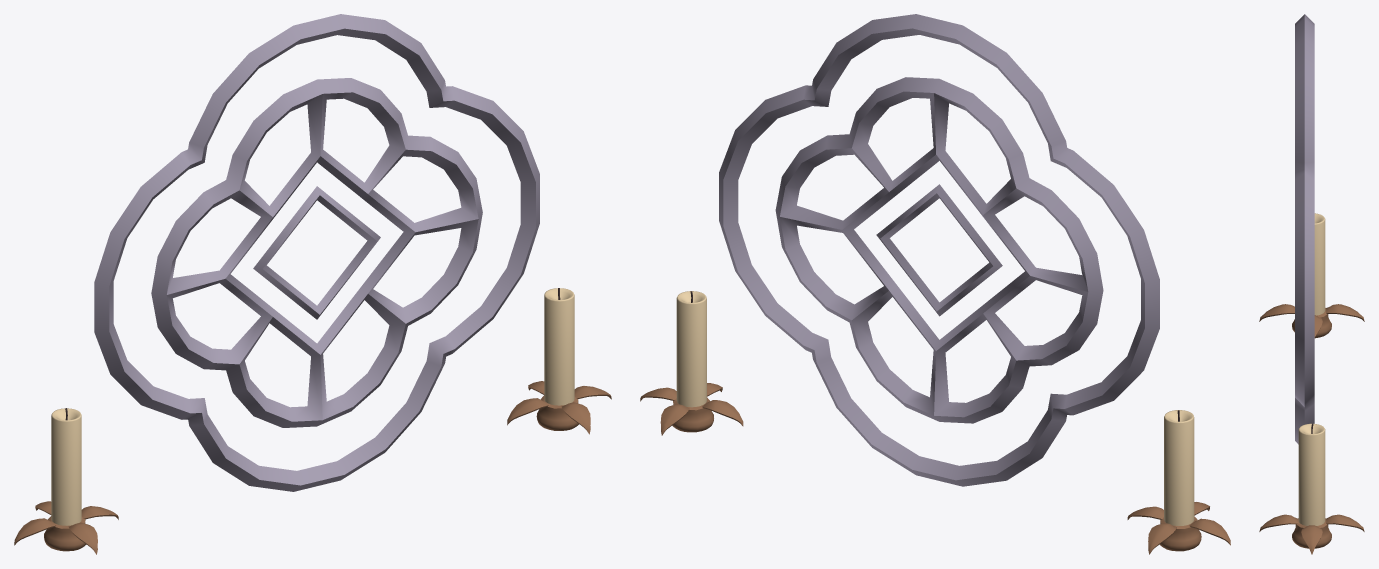
File: FI_084_dark_monk_altar.glb
3 views of the same model, side by side, from view 1: azimuth 30°, elevation 25°; view 2: azimuth 150°, elevation 25°; view 3: azimuth 270°, elevation 25° (orthographic). The views are drawn at different scales.
Visible parts, largest first — view 1: dark_monk_altar; view 2: dark_monk_altar; view 3: dark_monk_altar.
Part boxes in pixels (x1,y1,x2,y2): dark_monk_altar: (14,14,611,554); dark_monk_altar: (640,14,1230,554); dark_monk_altar: (1259,14,1364,554).
Bounding box in the file's own units: 2.16 × 1.61 × 0.3777.
